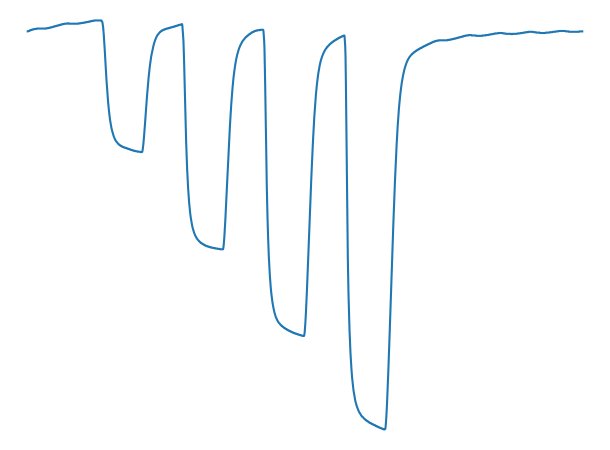decrease: (84, 13, 113, 36), (329, 27, 354, 51), (167, 17, 191, 41), (251, 23, 273, 44)
increase: (370, 408, 393, 436), (128, 138, 151, 158), (207, 234, 230, 253), (290, 318, 309, 341)
